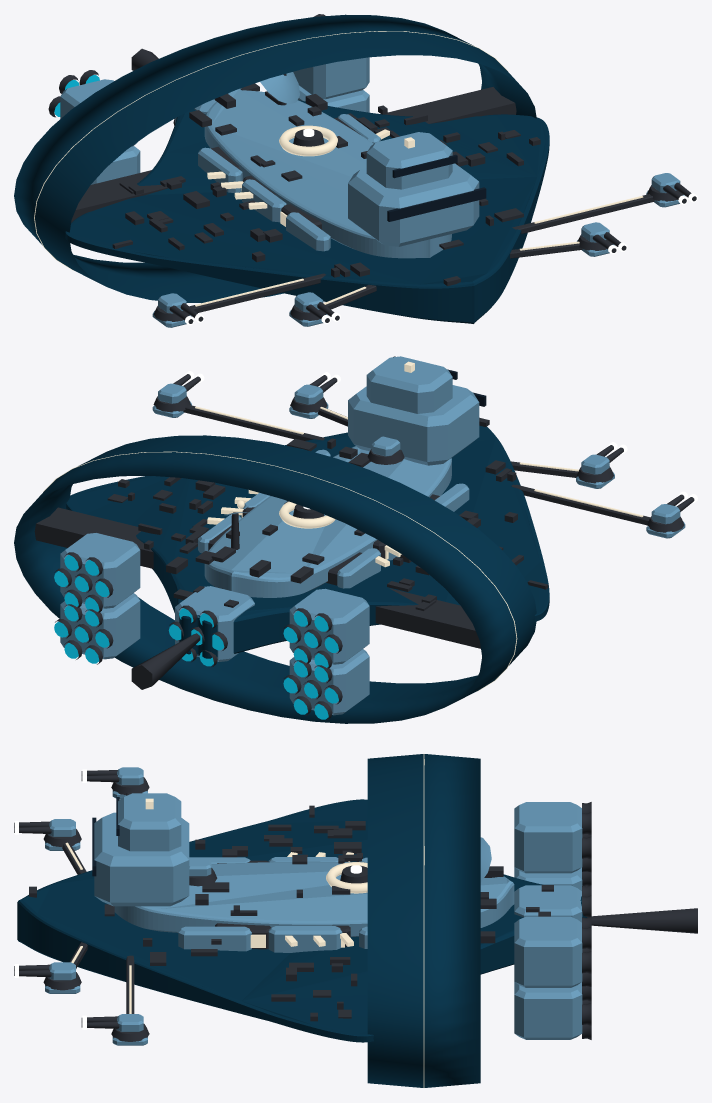
The model's file is ship_cradle.glb.
The picture shows the model from 3 angles, top to bottom: view 1: azimuth 30°, elevation 25°; view 2: azimuth 150°, elevation 25°; view 3: azimuth 270°, elevation 25°; orthographic projection. The views are drawn at different scales.
Visible parts, largest first — view 1: primary, secondary, trim, glow, glass, accent; view 2: primary, secondary, trim, engine, glow; view 3: primary, secondary, trim, glow.
Boxes of the visible parts, x1,y1,x2,y2 form: primary: (14,14,549,323); secondary: (60,57,685,327); trim: (48,14,696,323); glow: (34,31,643,306); glass: (387,154,486,221); accent: (185,128,697,325); primary: (14,425,549,723); secondary: (60,356,685,715); trim: (34,374,694,720); engine: (54,555,338,719); glow: (43,361,643,691); primary: (17,754,587,1087); secondary: (45,767,582,1045); trim: (14,770,697,1041); glow: (65,754,424,1087).
Size of the model in its own units: 9.36 by 3.94 by 10.3.
